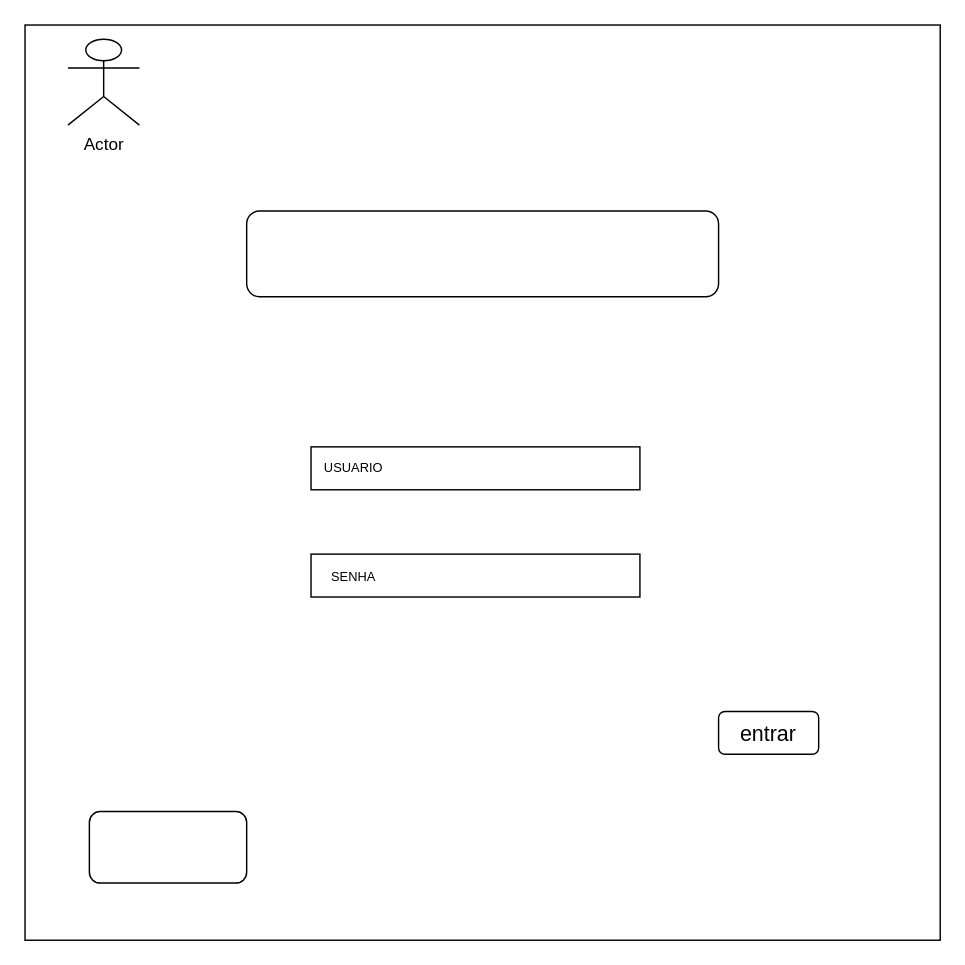
This 965x965 diagram has some shape labels left out. Each missing label, with the box of its shape:
LOGIN: (245, 209, 719, 297)
visitante???: (88, 810, 247, 883)
